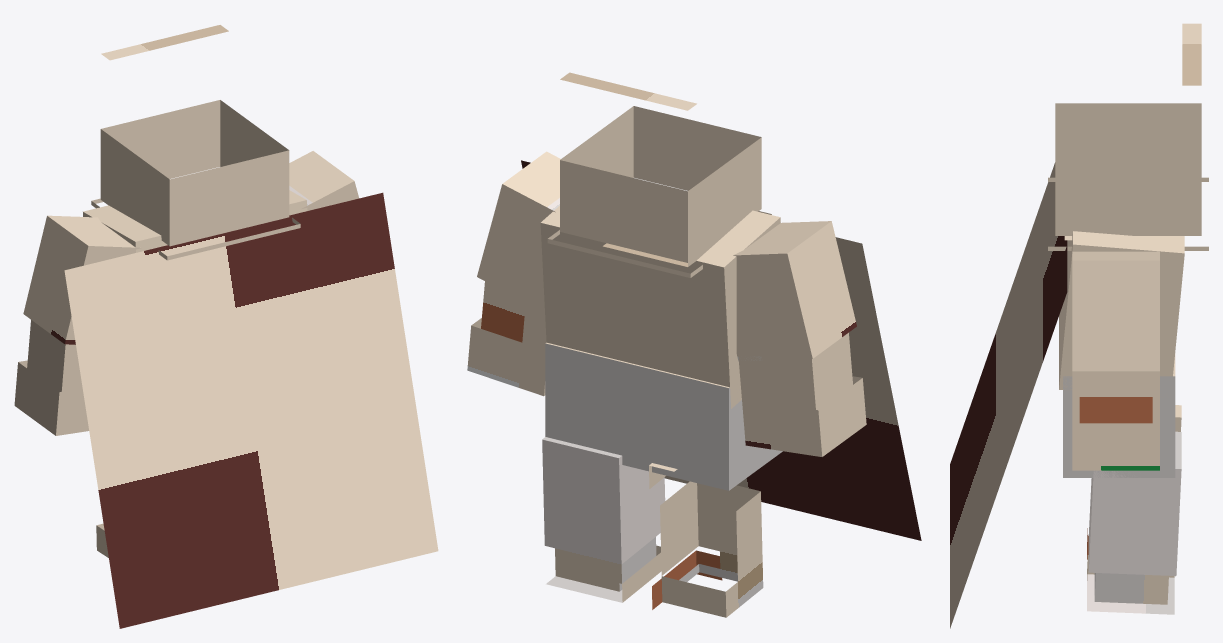
File: small_human_3.gltf
The picture shows the model from 3 angles, left to right: view 1: azimuth 30°, elevation 25°; view 2: azimuth 150°, elevation 25°; view 3: azimuth 270°, elevation 25°; orthographic projection. The views are drawn at different scales.
Parts seen in each view (by area): view 1: cape, skull, sleeve_3, sleeve_1, sleeve_2, upper_arm_1, shirt, hair; view 2: skull, shirt, belt, cape, shoe, sleeve_3, lower_leg_1, sleeve_2, sleeve_1, sleeve, upper_arm_1, upper_arm (+3 smaller); view 3: skull, cape, sleeve_2, shoe, shirt, sleeve, upper_arm, belt, lower_leg.
Part boxes in pixels (x1,y1,x2,y2): cape: (64,192,438,628); skull: (100,25,289,246); sleeve_3: (23,215,141,344); sleeve_1: (14,360,89,435); sleeve_2: (289,151,358,210); upper_arm_1: (27,320,82,392); shirt: (83,190,307,252); hair: (91,198,300,260); skull: (560,72,761,266); shirt: (540,206,780,408); belt: (545,342,782,490); cape: (521,160,921,540); shoe: (542,437,665,602); sleeve_3: (733,221,856,361); lower_leg_1: (660,481,763,617); sleeve_2: (477,151,560,312); sleeve_1: (737,341,866,456); sleeve: (467,287,546,396); upper_arm_1: (764,332,852,410); upper_arm: (481,281,525,342); skull: (1055,23,1201,240); cape: (950,162,1067,628); sleeve_2: (1072,251,1159,371); shoe: (1087,431,1181,614); shirt: (1059,231,1184,390); sleeve: (1072,371,1159,470); upper_arm: (1079,371,1152,423); belt: (1063,353,1175,477); lower_leg: (1094,573,1168,604).
Bounding box in the file's own units: 0.065 × 0.0924 × 0.0415.
